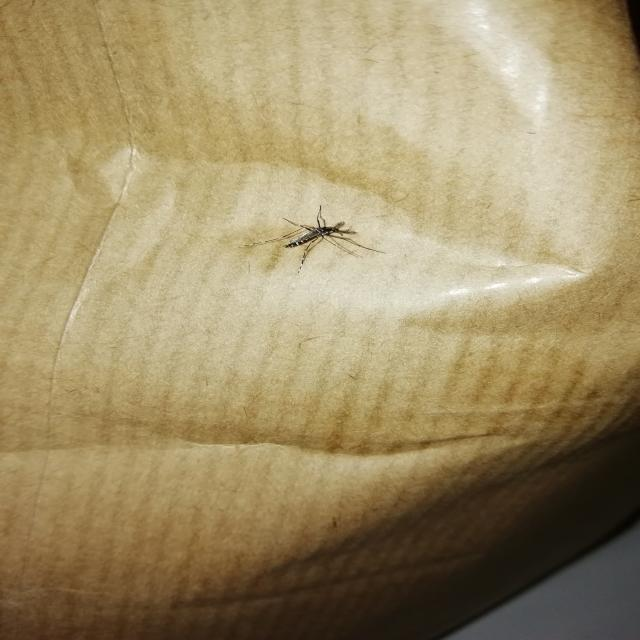albopictus: (228, 199, 390, 274)
